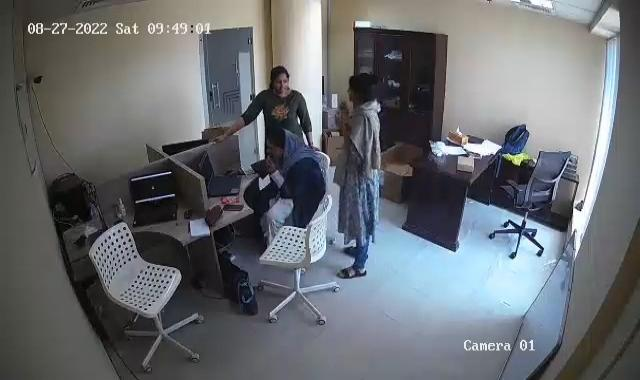no_hairnet: (262, 126, 297, 166), (345, 75, 377, 113), (268, 58, 294, 92)
